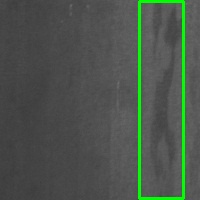inclusion: (139, 1, 183, 198)
